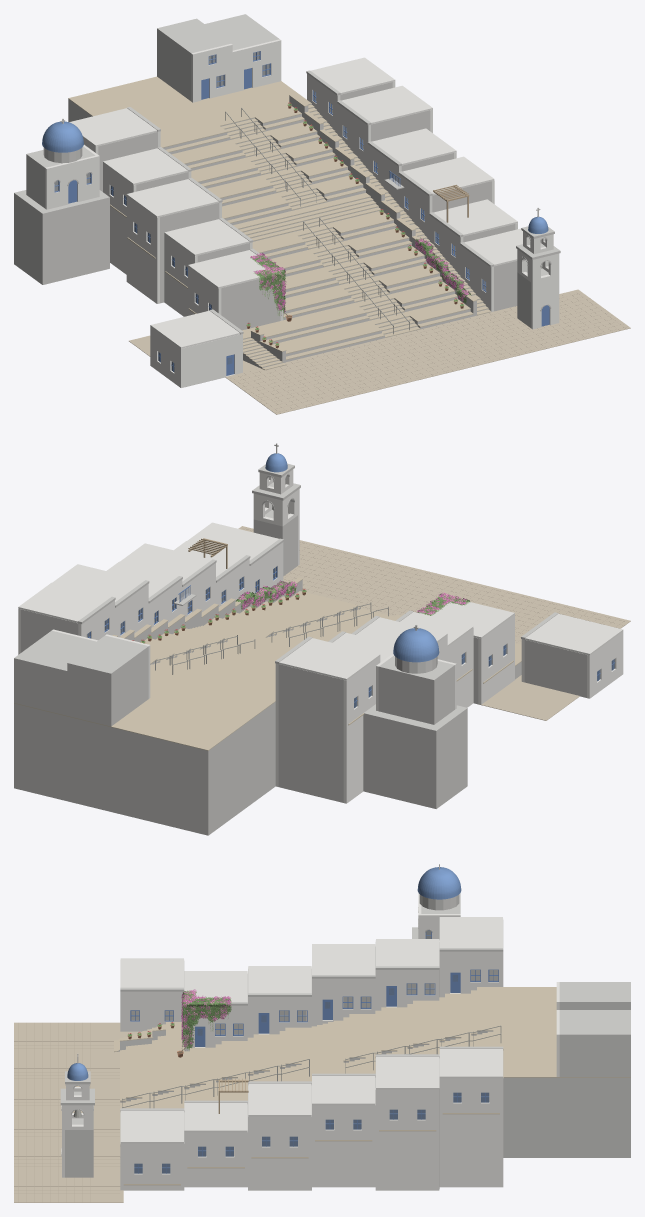
File: clay-stepped-terraced-plaza-clay-v005.glb
The picture shows the model from 3 angles, top to bottom: view 1: azimuth 30°, elevation 25°; view 2: azimuth 150°, elevation 25°; view 3: azimuth 270°, elevation 25°; orthographic projection. The views are drawn at different scales.
Visible parts, largest first — view 1: CLAY_STONE, CLAY_WHITE, CLAY_WALL, CLAY_ROOF, CLAY_PAVING, CLAY_JOINT, CLAY_BLUE, CLAY_DOME, CLAY_HARDWARE, CLAY_GLASS; view 2: CLAY_WHITE, CLAY_STONE, CLAY_WALL, CLAY_ROOF, CLAY_PAVING, CLAY_JOINT, CLAY_DOME, CLAY_HARDWARE, CLAY_BLUE, CLAY_GLASS; view 3: CLAY_WALL, CLAY_STONE, CLAY_WHITE, CLAY_ROOF, CLAY_PAVING, CLAY_BLUE, CLAY_JOINT, CLAY_GLASS, CLAY_DOME, CLAY_HARDWARE, CLAY_FLOOR, CLAY_PK_SHRUB_CORE.
Boxes of the visible parts, box(x1,y1,x2,y2) form: CLAY_STONE: box(68, 76, 491, 369); CLAY_WHITE: box(14, 14, 560, 387); CLAY_WALL: box(45, 39, 559, 387); CLAY_ROOF: box(69, 57, 522, 348); CLAY_PAVING: box(129, 289, 630, 414); CLAY_JOINT: box(230, 292, 627, 412); CLAY_BLUE: box(54, 51, 549, 375); CLAY_DOME: box(42, 121, 548, 233); CLAY_HARDWARE: box(225, 107, 542, 334); CLAY_GLASS: box(55, 52, 486, 371); CLAY_WHITE: box(14, 443, 586, 835); CLAY_STONE: box(14, 577, 521, 750); CLAY_WALL: box(18, 469, 623, 803); CLAY_ROOF: box(18, 522, 623, 680); CLAY_PAVING: box(238, 526, 630, 720); CLAY_JOINT: box(242, 527, 624, 642); CLAY_DOME: box(265, 453, 439, 662); CLAY_HARDWARE: box(155, 507, 388, 674); CLAY_BLUE: box(87, 566, 615, 707); CLAY_GLASS: box(86, 567, 614, 707); CLAY_WALL: box(62, 893, 559, 1190); CLAY_STONE: box(114, 987, 630, 1185); CLAY_WHITE: box(60, 864, 630, 1188); CLAY_ROOF: box(120, 917, 502, 1143); CLAY_PAVING: box(14, 1011, 172, 1202); CLAY_BLUE: box(130, 930, 498, 1173); CLAY_JOINT: box(14, 1023, 119, 1201); CLAY_GLASS: box(131, 930, 498, 1173); CLAY_DOME: box(67, 867, 461, 1080); CLAY_HARDWARE: box(73, 1025, 501, 1117); CLAY_FLOOR: box(131, 970, 498, 1155); CLAY_PK_SHRUB_CORE: box(183, 992, 227, 1044).
Size of the model in its own units: 45 by 16 by 58.
